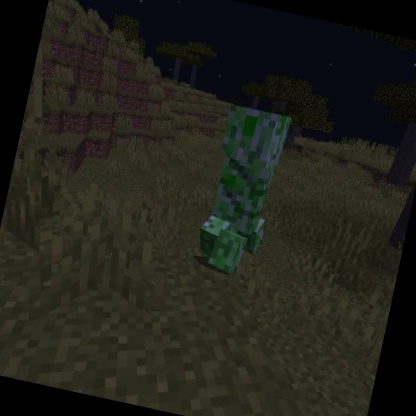creeper: (189, 99, 297, 283)
